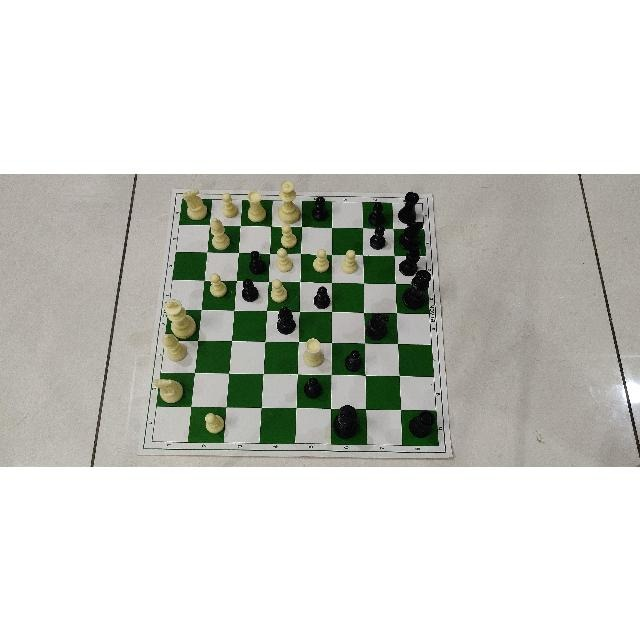black-bishop: (398, 245, 423, 277), (273, 305, 297, 335)
black-king: (332, 404, 360, 440)
black-knight: (397, 221, 423, 249), (366, 312, 390, 340)
black-pawn: (366, 200, 388, 225), (311, 194, 329, 222), (303, 375, 323, 400), (248, 249, 267, 275), (344, 347, 363, 372), (311, 285, 331, 308), (369, 224, 387, 249), (241, 276, 259, 301)
black-queen: (401, 267, 432, 310)
black-rook: (406, 408, 435, 439), (398, 191, 420, 223)
white-bishop: (162, 333, 188, 363), (210, 217, 230, 251)
white-king: (165, 296, 197, 338)
white-knight: (152, 376, 184, 405), (183, 189, 207, 221)
white-pawn: (201, 410, 228, 434), (220, 191, 239, 219), (274, 246, 293, 271), (209, 272, 227, 298), (341, 248, 359, 274), (270, 278, 288, 303), (279, 223, 297, 248), (312, 247, 329, 272)
white-queen: (277, 179, 300, 223)
white-rook: (302, 336, 332, 368), (244, 188, 270, 224)
